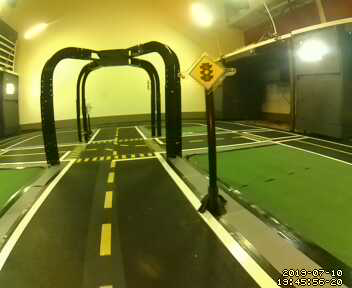Traffic light sign: (188, 53, 225, 90)
